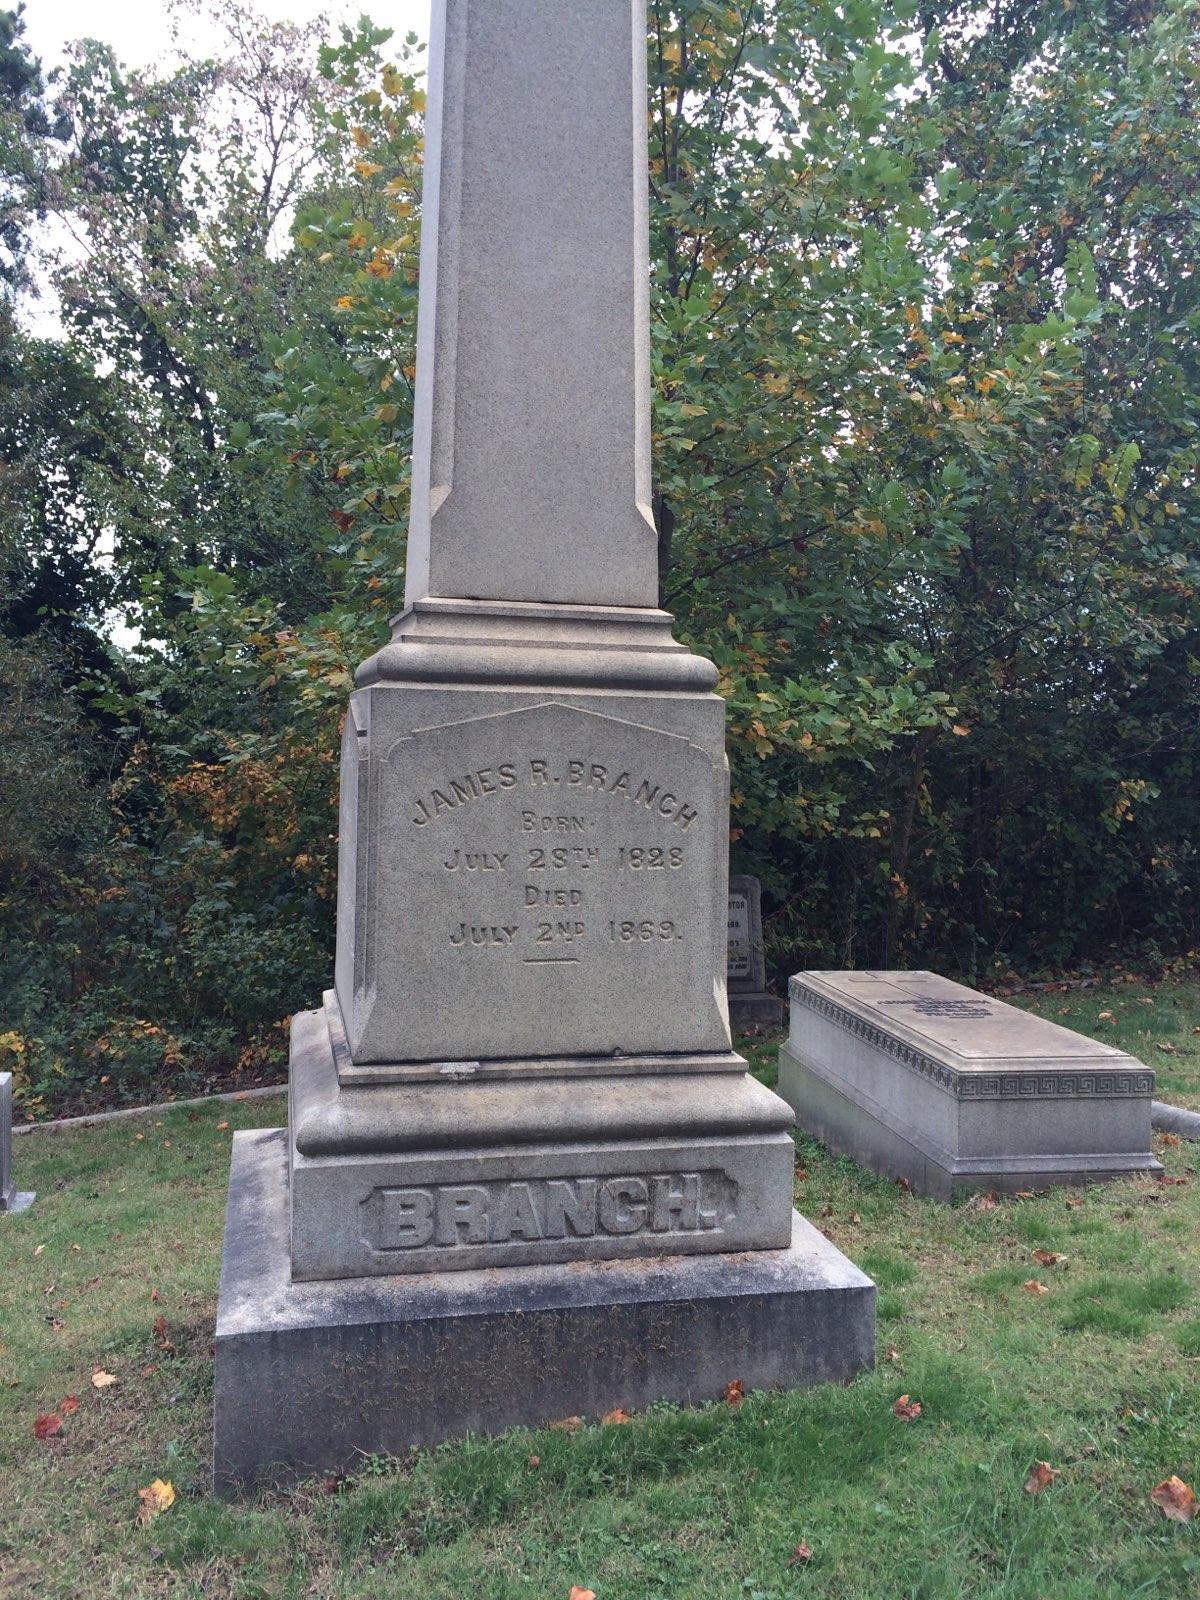obelisk: (284, 47, 783, 1238)
